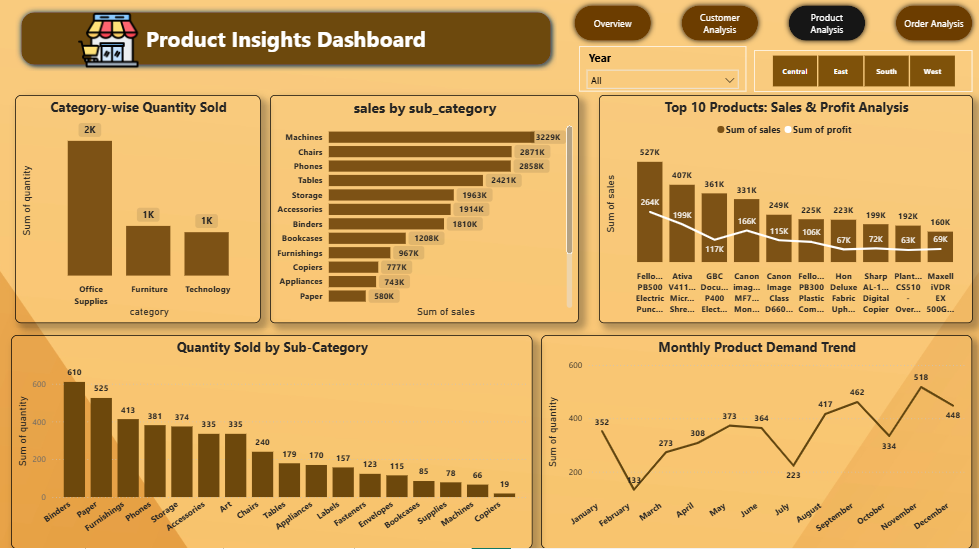

The page's visual inventory and layout, read from the dashboard file:
{"tool":"powerbi","page":{"name":"Product Analysis","canvas":[1400,800],"ordinal":2},"visuals":[{"type":"columnChart","title":"Category-wise Quantity Sold","fields":{"Category":["superstore products_clean.category"],"Y":["Sum(superstore orders_clean.quantity)"]},"box":[22,135.4,351.2,326],"z":0},{"type":"barChart","title":"sales by sub_category","fields":{"Category":["superstore products_clean.sub_category"],"Y":["Sum(superstore orders_clean.sales)"]},"box":[385.8,135.4,440.9,326],"z":1000},{"type":"clusteredColumnChart","title":" Quantity Sold by Sub-Category","fields":{"Category":["superstore products_clean.sub_category"],"Y":["Sum(superstore orders_clean.quantity)"]},"box":[15.7,478.7,744.9,305.5],"z":2000},{"type":"lineChart","title":"Monthly Product Demand Trend","fields":{"Category":["superstore orders_clean.order_date.Variation.Date Hierarchy.Month"],"Y":["Sum(superstore orders_clean.quantity)"]},"box":[773.2,478.7,615.7,305.5],"z":3000},{"type":"lineStackedColumnComboChart","title":"Top 10 Products: Sales & Profit Analysis","fields":{"Category":["superstore products_clean.product_name"],"Y":["Sum(superstore orders_clean.sales)"],"Y2":["Sum(superstore orders_clean.profit)"]},"box":[855.1,135.4,533.9,326],"z":4000},{"type":"shape","box":[21.4,8.6,774.3,92.9],"z":5000},{"type":"image","box":[94.3,12.9,121.4,88.6],"z":6000},{"type":"slicer","fields":{"Values":["superstore orders_clean.order_date.Variation.Date Hierarchy.Year"]},"box":[826.8,66.1,239.4,64.6],"z":7000},{"type":"slicer","fields":{"Values":["superstore customers.region"]},"box":[1077.2,70.9,311.8,59.8],"z":8000},{"type":"pageNavigator","box":[812.6,0,587.4,66.1],"z":9000}]}

Visuals, with their boxes in screenshot pixels (x1, y1, x2, y2), scaled from the page's 1400x800 canvas onto the 979x549 screenshot:
"Category-wise Quantity Sold" columnChart: pyautogui.locateOnScreen(15, 93, 261, 317)
"sales by sub_category" barChart: pyautogui.locateOnScreen(270, 93, 578, 317)
" Quantity Sold by Sub-Category" clusteredColumnChart: pyautogui.locateOnScreen(11, 329, 532, 538)
"Monthly Product Demand Trend" lineChart: pyautogui.locateOnScreen(541, 329, 971, 538)
"Top 10 Products: Sales & Profit Analysis" lineStackedColumnComboChart: pyautogui.locateOnScreen(598, 93, 971, 317)
shape: pyautogui.locateOnScreen(15, 6, 556, 70)
image: pyautogui.locateOnScreen(66, 9, 151, 70)
slicer - superstore orders_clean.order_date.Variation.Date Hierarchy.Year: pyautogui.locateOnScreen(578, 45, 746, 90)
slicer - superstore customers.region: pyautogui.locateOnScreen(753, 49, 971, 90)
pageNavigator: pyautogui.locateOnScreen(568, 0, 978, 45)
